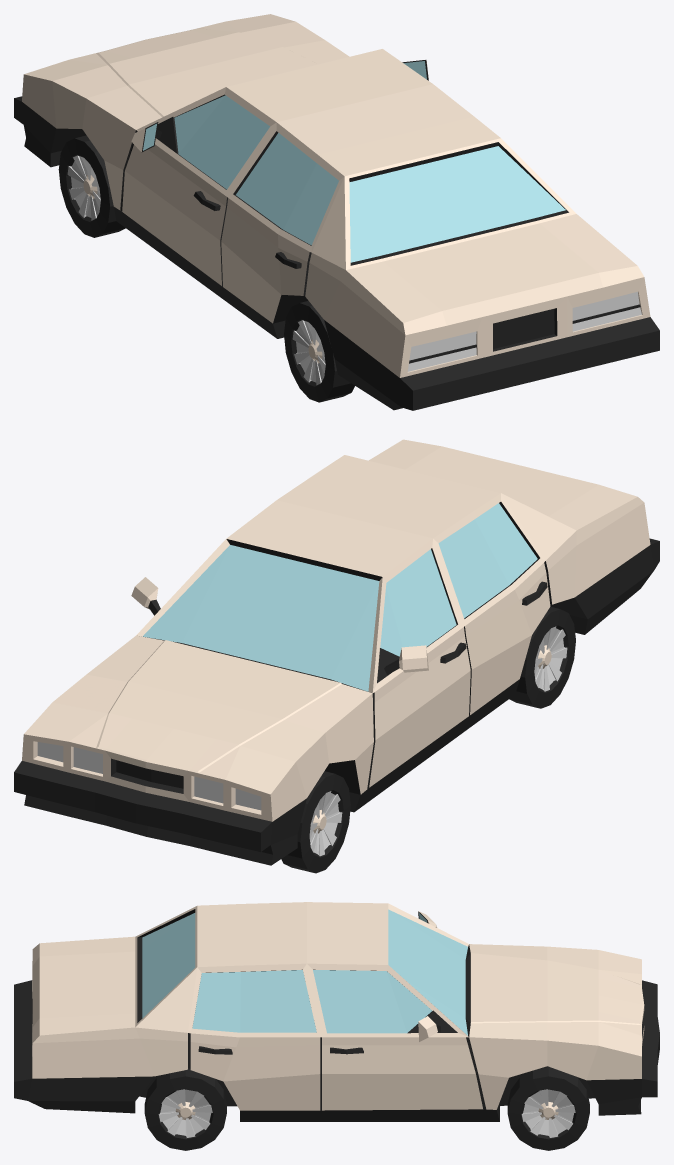
File: car1.fbx
3 renders of one model, top to bottom at view 1: azimuth 30°, elevation 25°; view 2: azimuth 150°, elevation 25°; view 3: azimuth 270°, elevation 25°, orthographic. The views are drawn at different scales.
Visible parts, largest first — view 1: Cube.004, Cube.006, Cube.007; view 2: Cube.004, Cube.006, Cube.007; view 3: Cube.004, Cube.008, Cube.005.
Part boxes in pixels (<box>): Cube.004: <box>14,14,659,410</box>; Cube.006: <box>58,135,125,237</box>; Cube.007: <box>284,301,354,402</box>; Cube.004: <box>14,439,659,865</box>; Cube.006: <box>281,771,350,873</box>; Cube.007: <box>509,606,575,708</box>; Cube.004: <box>14,902,659,1121</box>; Cube.008: <box>507,1067,589,1150</box>; Cube.005: <box>144,1068,226,1150</box>.
Bounding box in the file's own units: 271 × 185 × 635.
